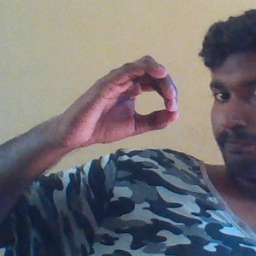O: (68, 51, 182, 152)
